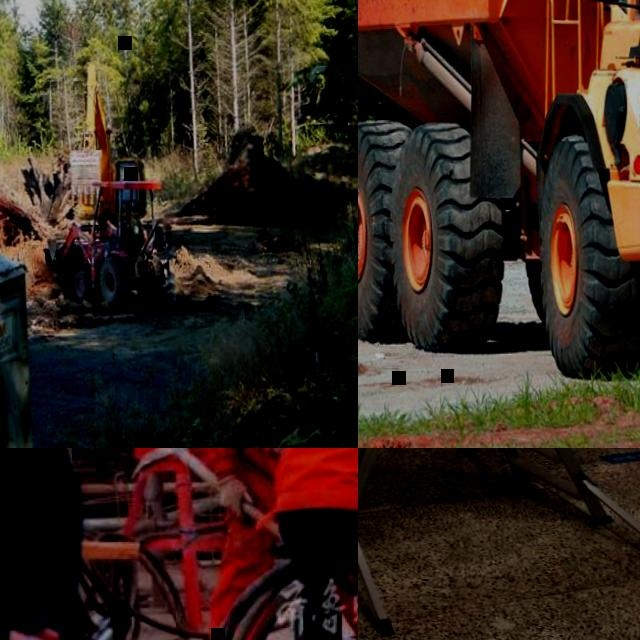NO-Safety Vest: (0, 448, 68, 640)
Person: (204, 448, 358, 640), (0, 448, 116, 640), (257, 448, 358, 640), (123, 168, 134, 179)
Safety Vest: (218, 448, 299, 500), (124, 174, 133, 180)
machinery: (358, 0, 640, 393), (45, 177, 174, 308), (50, 63, 149, 227)
